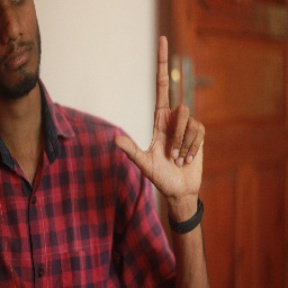L: (110, 34, 208, 198)
